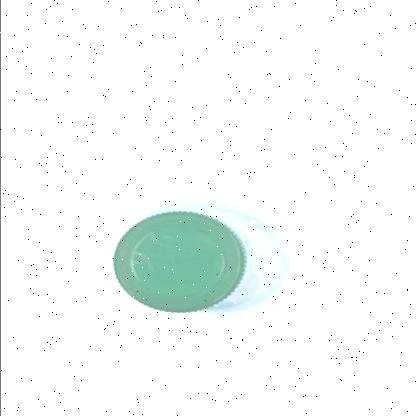Plastic Bottle: (112, 196, 291, 322)
